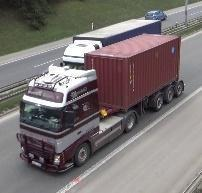car: (145, 10, 168, 21)
truck: (17, 33, 182, 173)
